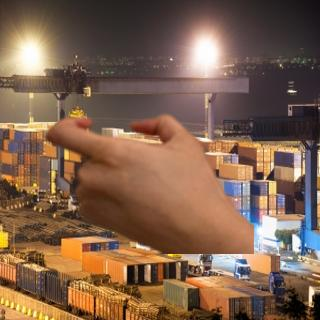HATE: (37, 107, 238, 250)
